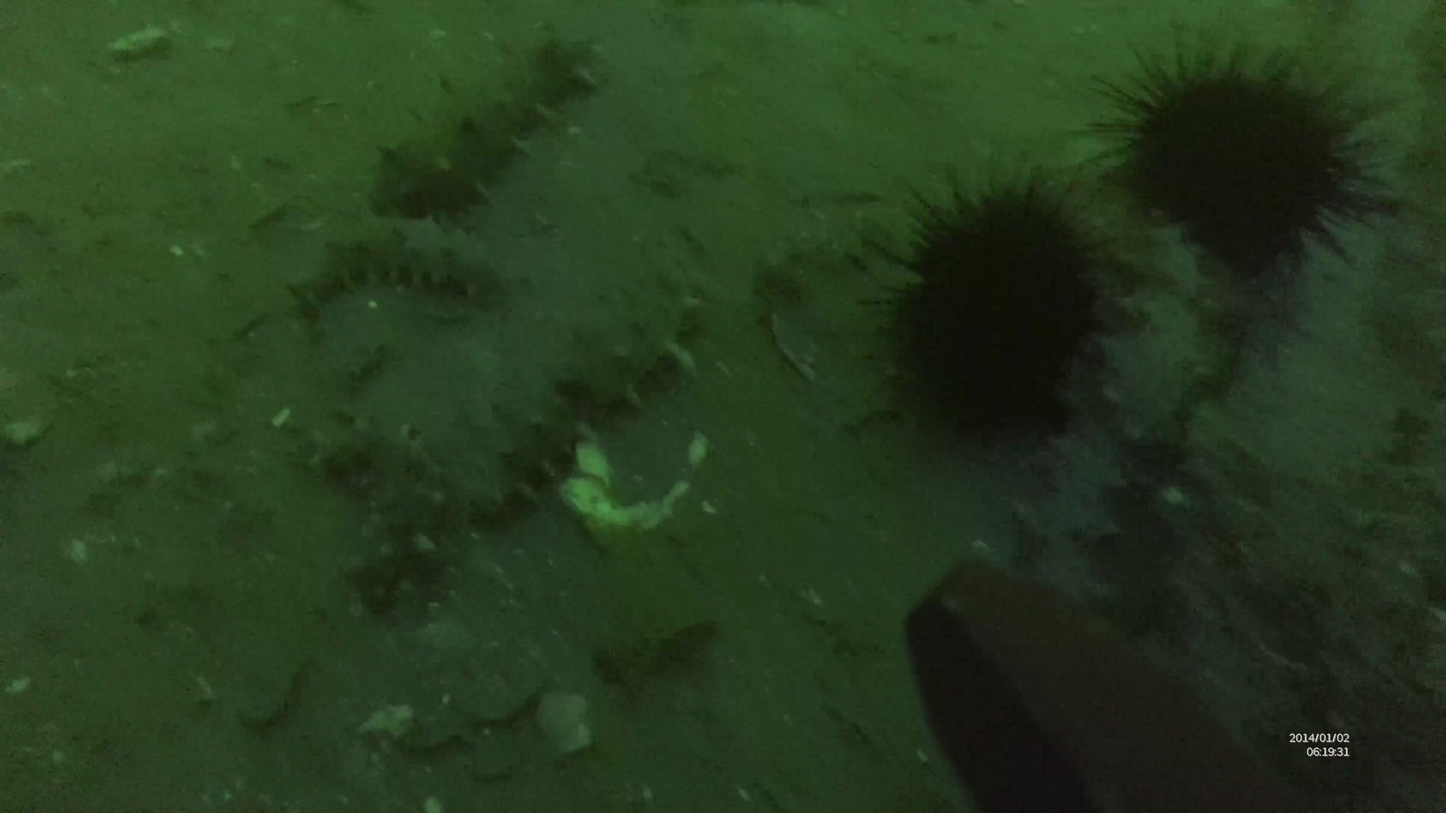echinus: (380, 34, 596, 219), (325, 417, 470, 617), (554, 288, 711, 419), (291, 233, 506, 317), (462, 408, 573, 523)
starfish: (1093, 34, 1405, 276), (883, 163, 1118, 438)
